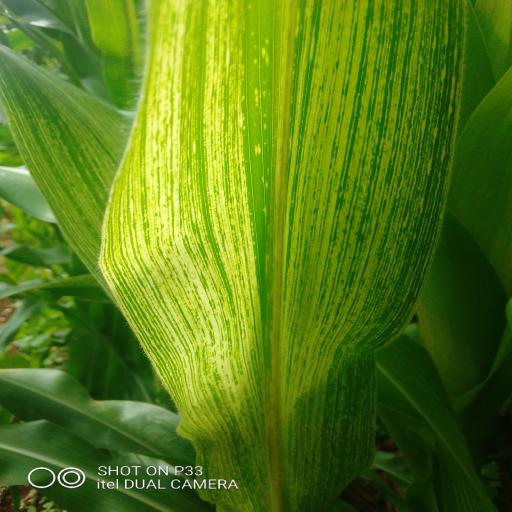Corn_Streak: (108, 2, 462, 512)
